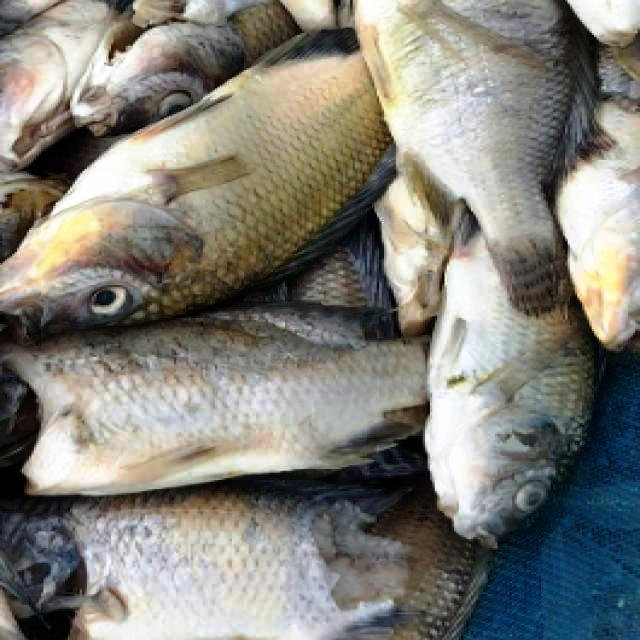Tilapia Lake Virus -TiLV-: (0, 29, 394, 334), (0, 305, 426, 495)
